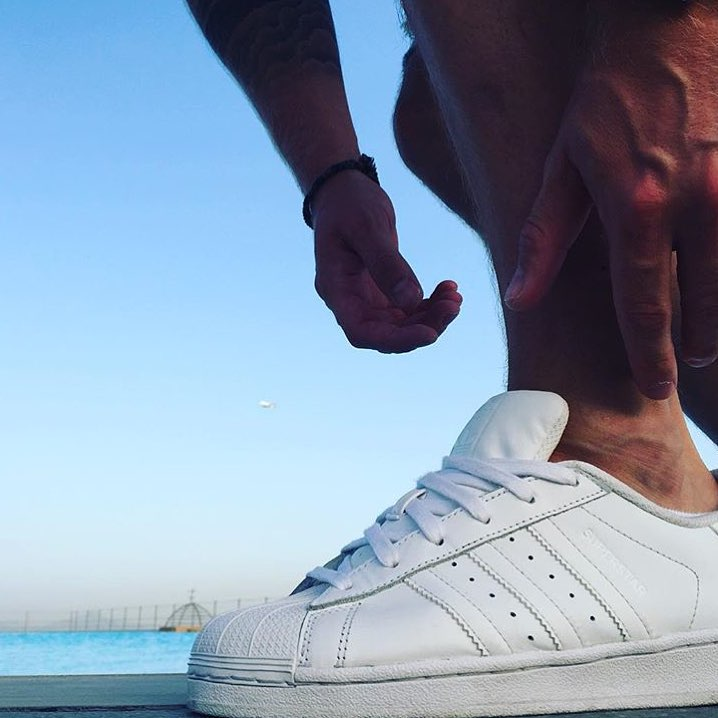sneaker: (156, 361, 718, 715)
